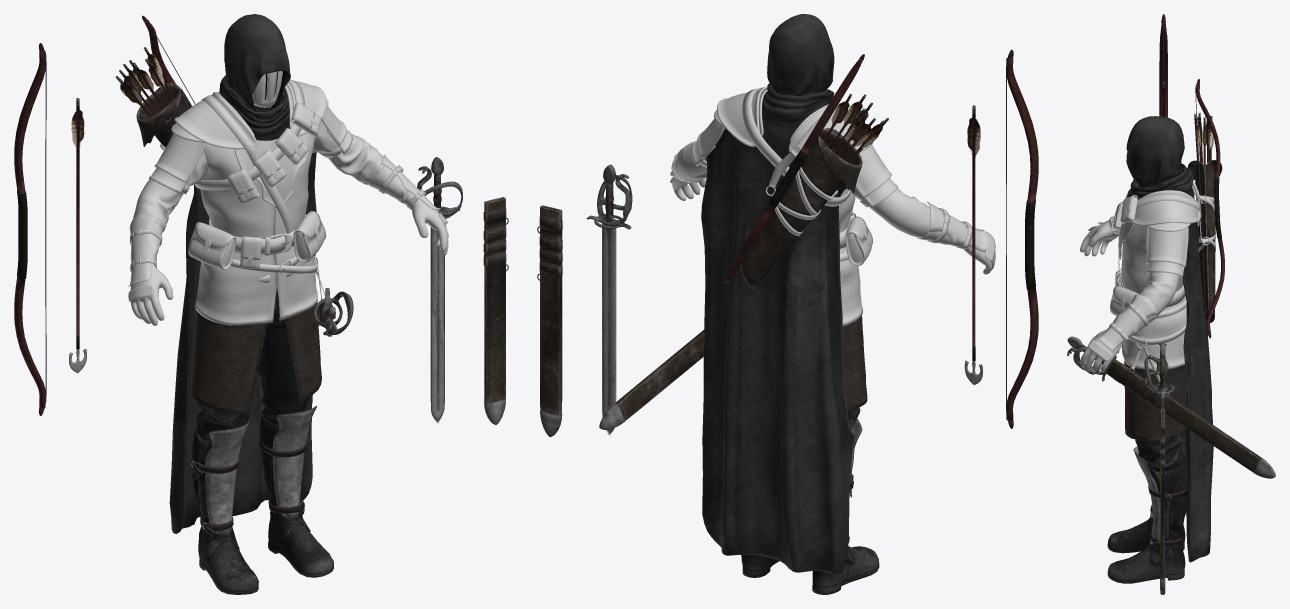
The model's file is Charecter+Weapons.fbx.
3 views of the same model, side by side, from view 1: azimuth 30°, elevation 25°; view 2: azimuth 150°, elevation 25°; view 3: azimuth 270°, elevation 25° (orthographic). The views are drawn at different scales.
Parts seen in each view (by area): view 1: Player, SwordHolder2, Bow2, Sword2, Arrow9, Sword1; view 2: Player, SwordHolder2, Sword2, Bow2, Bow1, Arrow9; view 3: Player, Bow1, SwordHolder2, Sword2, Bow2, Sword1.
Boxes of the visible parts, x1,y1,x2,y2 form: Player: [128, 14, 448, 594]; SwordHolder2: [483, 197, 508, 424]; Bow2: [14, 43, 46, 415]; Sword2: [417, 157, 462, 423]; Arrow9: [69, 98, 86, 373]; Sword1: [314, 288, 353, 336]; Player: [599, 14, 995, 594]; SwordHolder2: [537, 205, 562, 437]; Sword2: [586, 164, 632, 435]; Bow2: [1006, 49, 1038, 428]; Bow1: [723, 54, 864, 286]; Arrow9: [964, 105, 982, 385]; Player: [1080, 116, 1275, 583]; Bow1: [1195, 79, 1224, 338]; SwordHolder2: [1160, 408, 1165, 594]; Sword2: [1144, 343, 1174, 408]; Bow2: [1159, 14, 1167, 117]; Sword1: [1067, 336, 1119, 381].
Bounding box in the file's own units: 1522 × 1683 × 686.
